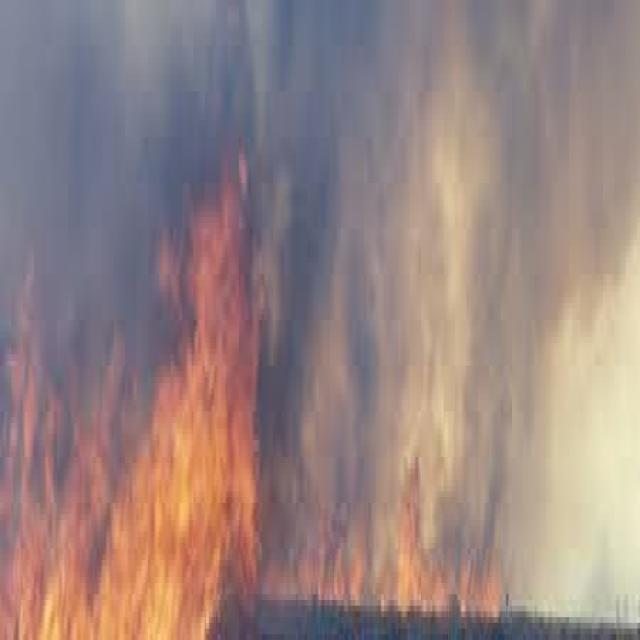Fire: (0, 127, 266, 640), (271, 451, 526, 638)
Smoke: (256, 0, 640, 406), (0, 0, 348, 429), (264, 0, 518, 568)
